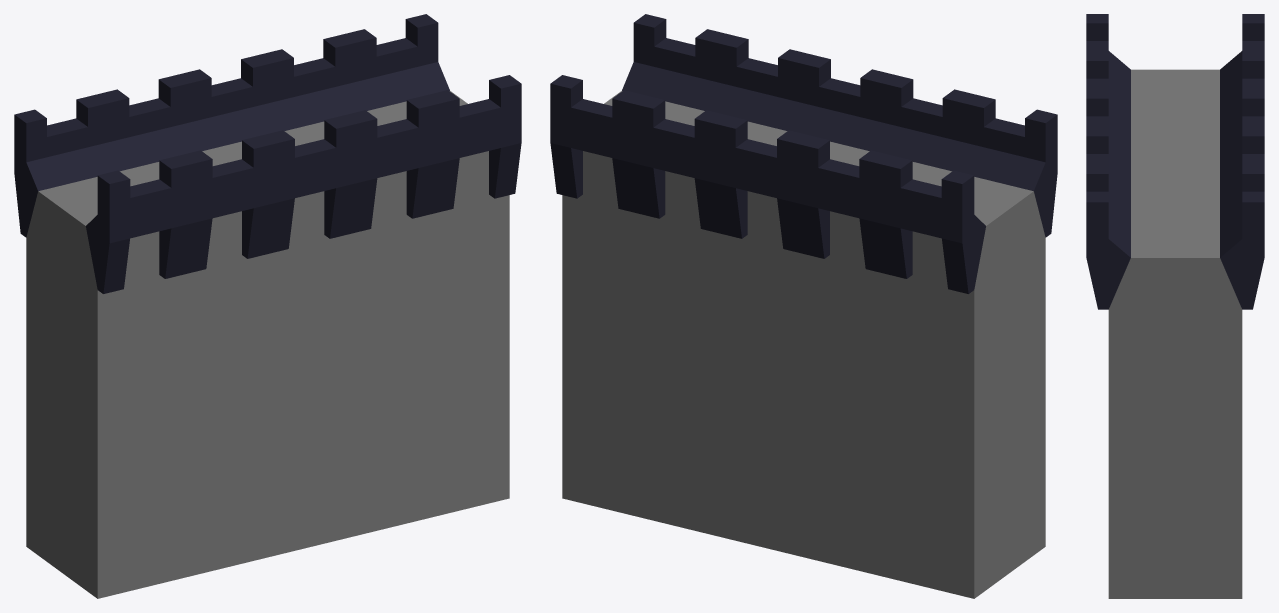
The model's file is Defence Long.fbx.
3 views of the same model, side by side, from view 1: azimuth 30°, elevation 25°; view 2: azimuth 150°, elevation 25°; view 3: azimuth 270°, elevation 25° (orthographic). The views are drawn at different scales.
Parts seen in each view (by area): view 1: Defense Double Long; view 2: Defense Double Long; view 3: Defense Double Long.
Boxes of the visible parts, x1=… form: Defense Double Long: x1=14, y1=14, x2=521, y2=598; Defense Double Long: x1=550, y1=14, x2=1057, y2=598; Defense Double Long: x1=1086, y1=14, x2=1264, y2=598.
Size of the model in its own units: 100 by 98.23 by 40.
